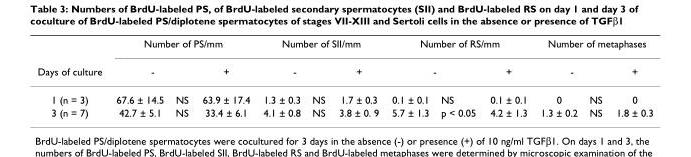table: (36, 37, 652, 118)
table column: (36, 37, 108, 118), (194, 37, 255, 118), (108, 37, 168, 118), (331, 37, 384, 118), (482, 37, 533, 118), (255, 37, 305, 118), (384, 37, 434, 118), (533, 37, 582, 118), (434, 37, 482, 118), (608, 37, 652, 118), (168, 37, 194, 118), (305, 37, 331, 118), (582, 37, 608, 118)
table column header: (36, 37, 652, 105)
table row: (36, 57, 652, 85), (36, 37, 652, 57), (36, 85, 652, 105), (36, 105, 652, 118)
table spanning cell: (36, 37, 108, 105), (384, 37, 533, 57), (108, 37, 255, 57), (194, 57, 255, 105), (384, 57, 482, 85), (255, 37, 384, 57), (331, 57, 384, 105), (482, 57, 533, 105), (108, 57, 194, 85), (533, 37, 652, 57), (255, 57, 331, 85), (608, 57, 652, 105), (533, 57, 608, 85)
